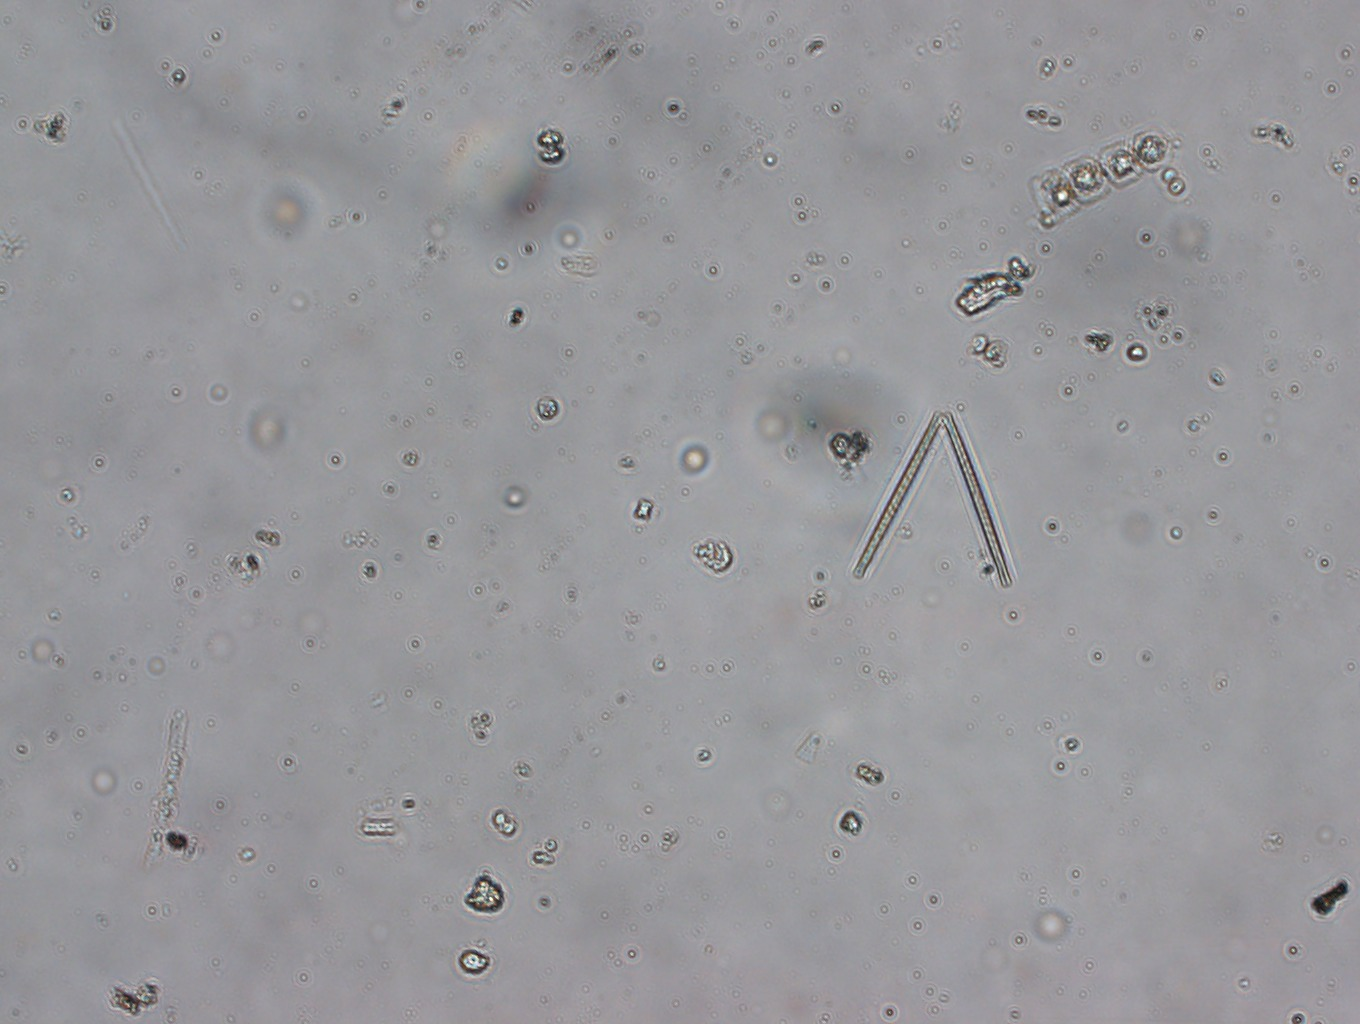detonula pumila: (1023, 130, 1211, 237)
thalassionema frauenfeldii: (847, 406, 1023, 602)
